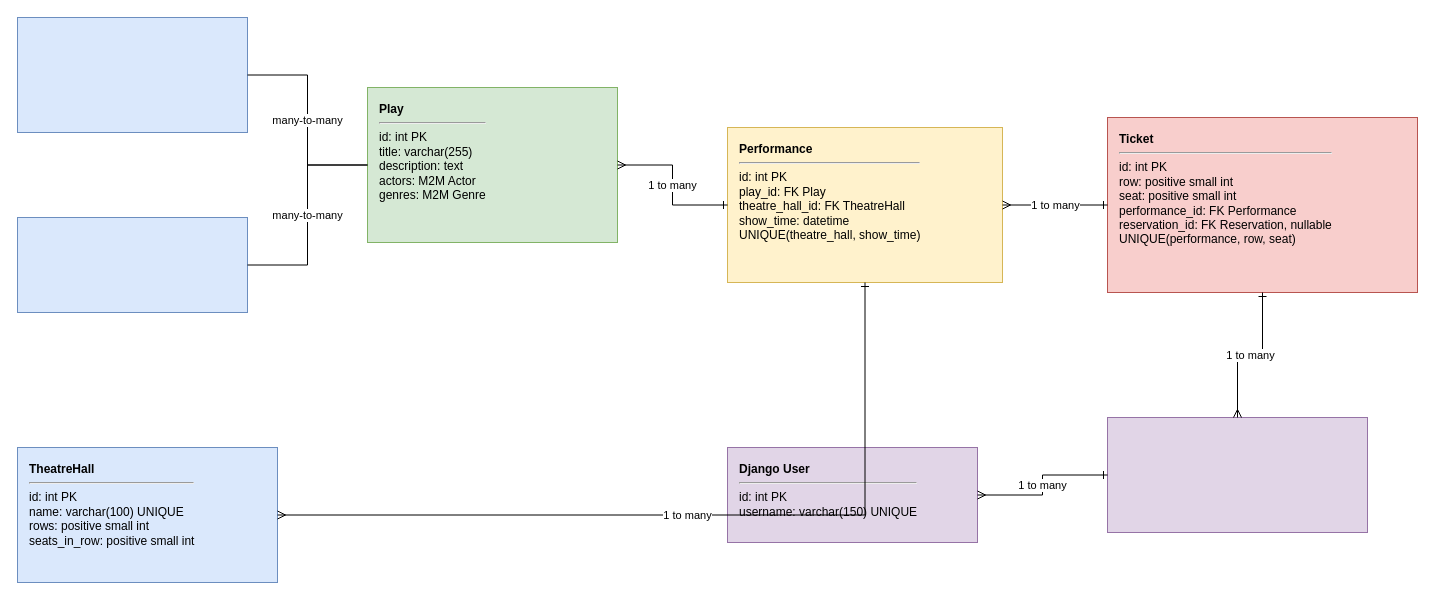
This 1435x600 diagram has some shape labels left out. Here are the shapes that lost their labels. From the top down, the box of each, then its label:
(16, 16, 248, 132): Actor id: int PK first_name: varchar(100) last_name: varchar(100)
(16, 216, 248, 312): Genre id: int PK name: varchar(100) UNIQUE
(1106, 416, 1368, 532): Reservation id: int PK created_at: datetime user_id: FK User
